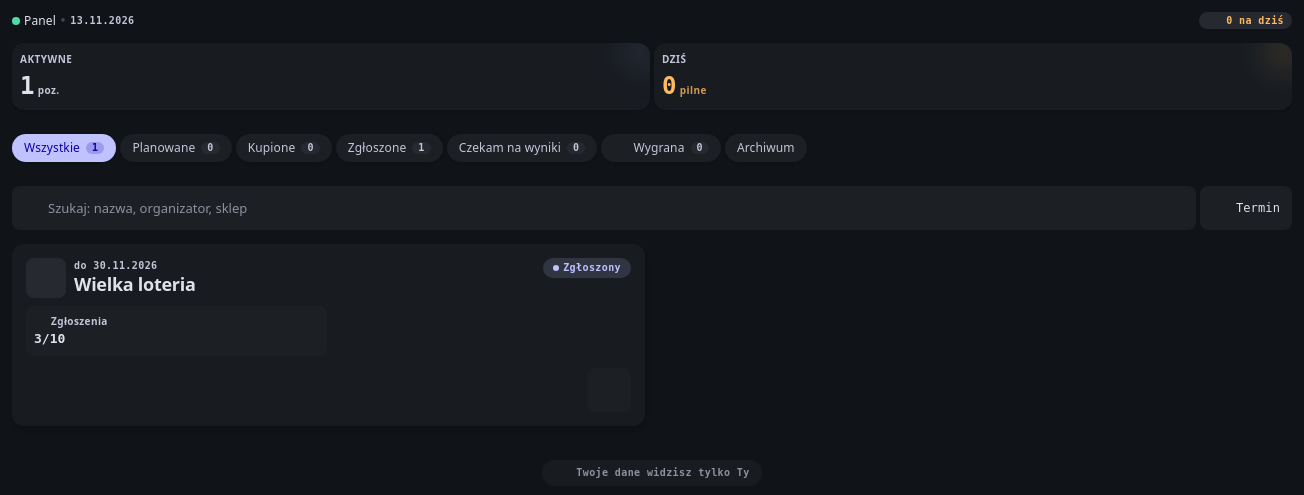
Test case: ContestsPage › archive pill loads archive view
Expected: the link "Wielka loteria" is shown, [74, 272, 196, 296]
Click the button "Archiwum".
click(766, 148)  # box [725, 126, 807, 170]
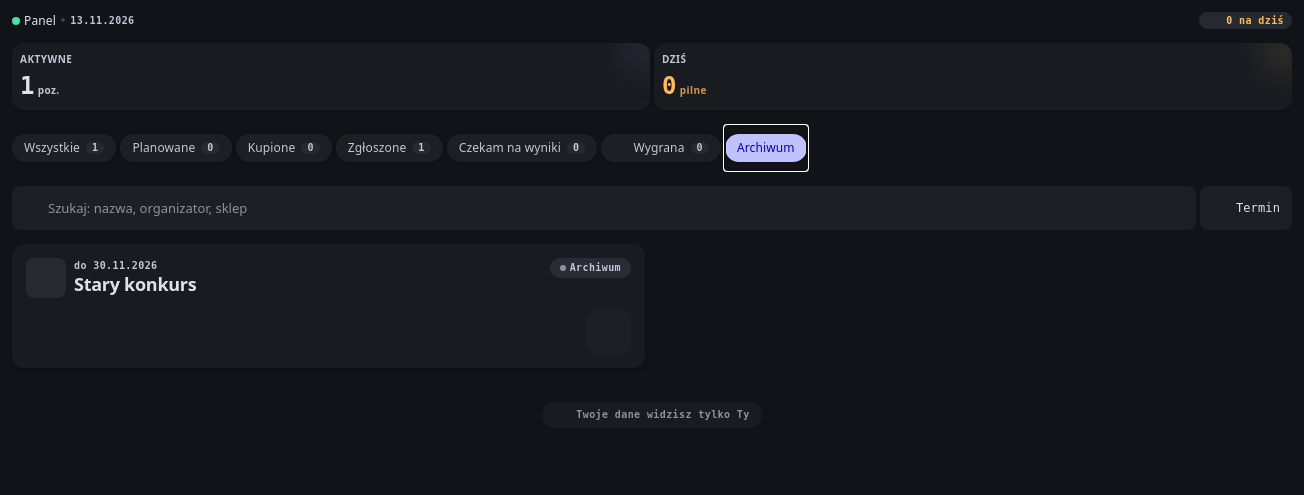
Expected: the link "Stary konkurs" is shown, [74, 272, 196, 296]
